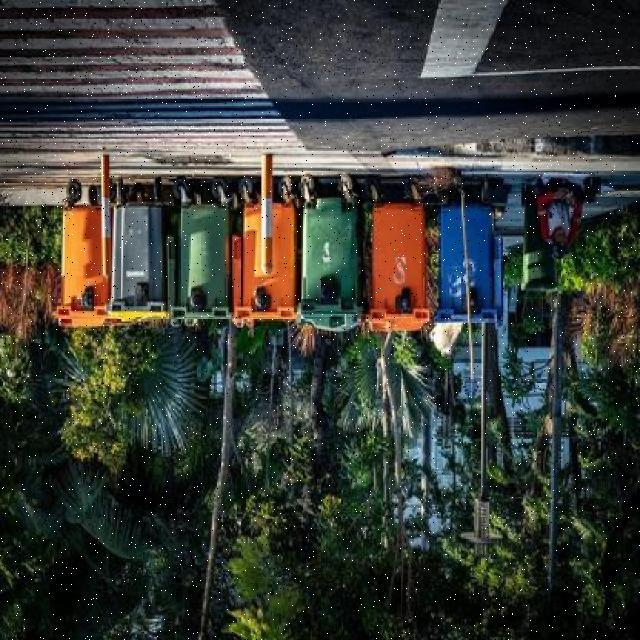garbage container: (434, 172, 514, 328), (298, 160, 363, 337), (366, 171, 434, 339), (49, 179, 111, 335), (110, 177, 173, 328), (176, 173, 235, 332)
